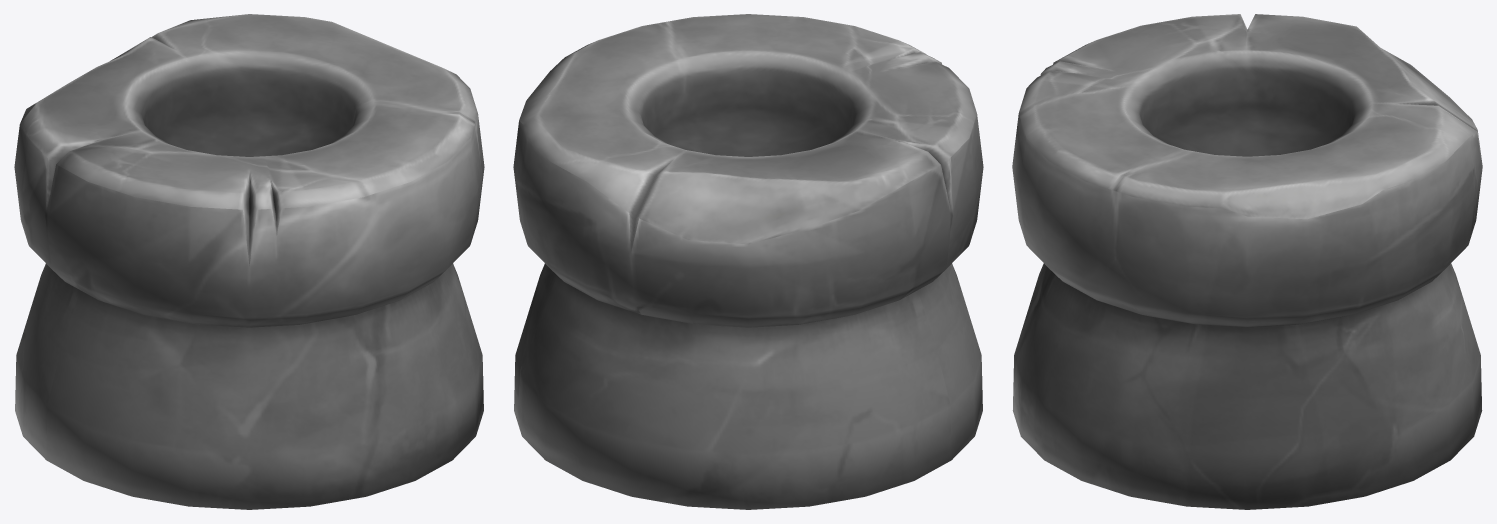
File: Stone01.fbx
3 views of the same model, side by side, from view 1: azimuth 30°, elevation 25°; view 2: azimuth 150°, elevation 25°; view 3: azimuth 270°, elevation 25° (orthographic).
Visible parts, largest first — view 1: Stone01; view 2: Stone01; view 3: Stone01.
Boxes of the visible parts, left/top/right/bottom form: Stone01: left=14, top=14, right=484, bottom=509; Stone01: left=513, top=14, right=983, bottom=509; Stone01: left=1012, top=14, right=1482, bottom=509.
Bounding box in the file's own units: 1.38 × 1.03 × 1.38.
